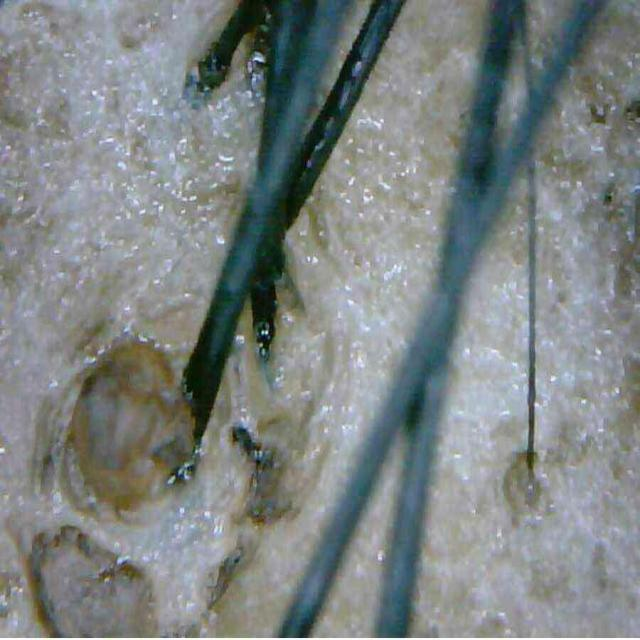o: (0, 2, 486, 637), (410, 2, 640, 637)
